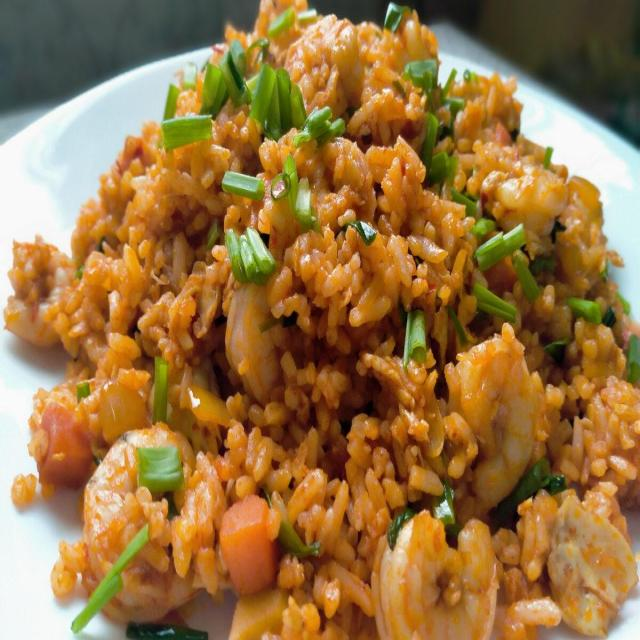Nasi Goreng: (4, 1, 637, 636)
